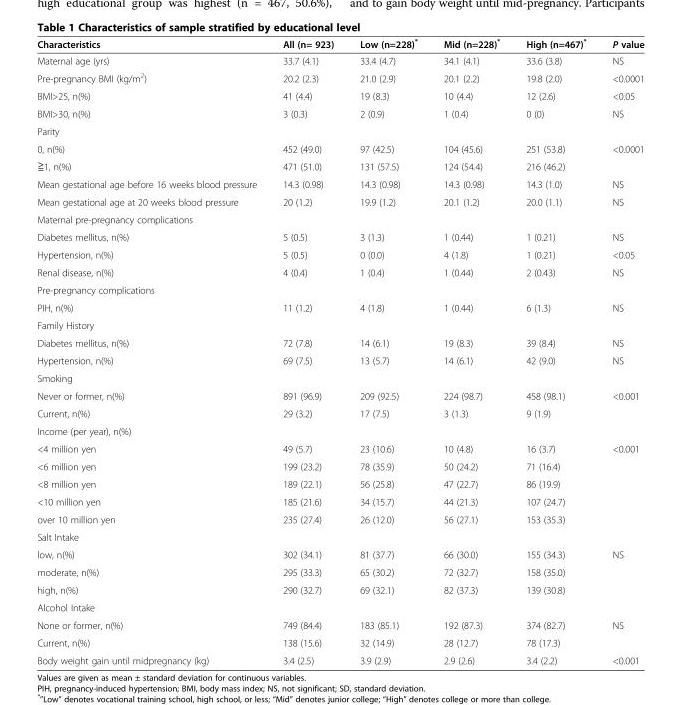table: (36, 36, 643, 665)
table column: (36, 36, 269, 665), (512, 36, 598, 665), (346, 36, 429, 665), (429, 36, 512, 665), (269, 36, 346, 665), (598, 36, 643, 665)
table column header: (36, 36, 643, 52)
table projected row header: (36, 280, 643, 298), (36, 527, 643, 545), (36, 598, 643, 616), (36, 122, 643, 139), (36, 210, 643, 227), (36, 316, 643, 333), (36, 369, 643, 386), (36, 422, 643, 439)
table row: (36, 68, 643, 86), (36, 86, 643, 104), (36, 104, 643, 122), (36, 139, 643, 157), (36, 157, 643, 175), (36, 192, 643, 210), (36, 227, 643, 245), (36, 245, 643, 263), (36, 280, 643, 298), (36, 298, 643, 316), (36, 333, 643, 351), (36, 351, 643, 369), (36, 386, 643, 404), (36, 404, 643, 422), (36, 439, 643, 457), (36, 474, 643, 492), (36, 492, 643, 510), (36, 527, 643, 545), (36, 545, 643, 563), (36, 580, 643, 598), (36, 598, 643, 616), (36, 633, 643, 651), (36, 122, 643, 139), (36, 175, 643, 192), (36, 210, 643, 227), (36, 263, 643, 280), (36, 316, 643, 333), (36, 369, 643, 386), (36, 422, 643, 439), (36, 457, 643, 474), (36, 510, 643, 527), (36, 563, 643, 580), (36, 616, 643, 633), (36, 36, 643, 52), (36, 52, 643, 68), (36, 651, 643, 665)
table spanning cell: (598, 439, 643, 527), (598, 545, 643, 598), (598, 139, 643, 175), (598, 386, 643, 422), (598, 616, 643, 651)
